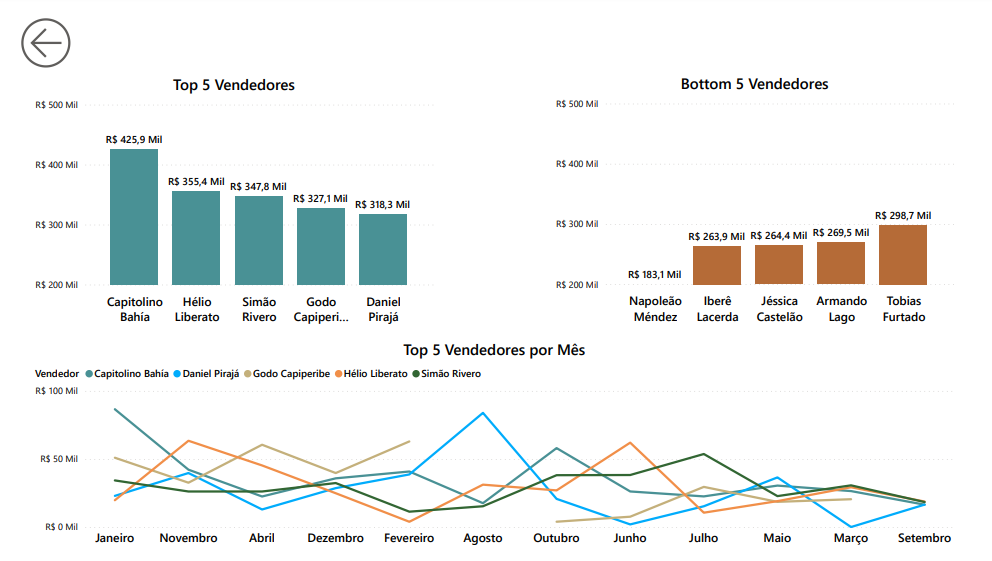

The dashboard page shown, as its layout file describes it:
{"tool":"powerbi","page":{"name":"Vendedor","canvas":[1280,720],"ordinal":2},"visuals":[{"type":"actionButton","box":[0,0,151.2,82.1],"z":0},{"type":"clusteredColumnChart","title":"Top 5 Vendedores","fields":{"Category":["Vendedores.Vendedor"],"Y":["Sum(Vendas.Total)"]},"box":[21.6,82.1,540,341.3],"z":1000},{"type":"clusteredColumnChart","title":"Bottom 5 Vendedores","fields":{"Category":["Vendedores.Vendedor"],"Y":["Sum(Vendas.Total)"]},"box":[714.5,81.3,540.1,342],"z":2000},{"type":"lineChart","title":"Top 5 Vendedores por Mês","fields":{"Category":["Vendas.Nome do Mês"],"Series":["Vendedores.Vendedor"],"Y":["Sum(Vendas.Total)"]},"box":[22,433.4,1232.6,286.1],"z":3000}]}

Visuals, with their boxes in screenshot pixels (x1, y1, x2, y2), scaled from the page's 1280x720 canvas onto the 992x561 screenshot:
actionButton: left=0, top=0, right=117, bottom=64
"Top 5 Vendedores" clusteredColumnChart: left=17, top=64, right=435, bottom=330
"Bottom 5 Vendedores" clusteredColumnChart: left=554, top=63, right=972, bottom=330
"Top 5 Vendedores por Mês" lineChart: left=17, top=338, right=972, bottom=560
